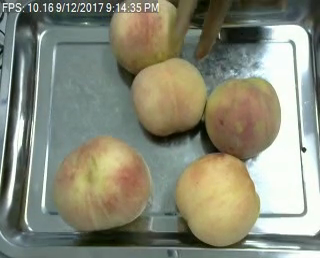Peach: (53, 134, 150, 232), (174, 153, 261, 246), (204, 78, 281, 157), (132, 56, 205, 136), (108, 0, 182, 73)
